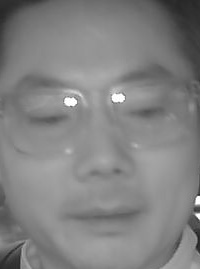glass: (105, 77, 194, 150), (4, 80, 87, 157)
mouth: (64, 195, 138, 238)
